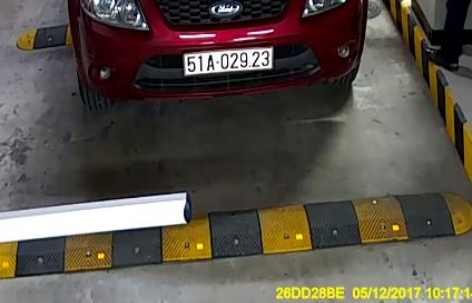plate: (176, 42, 280, 78)
